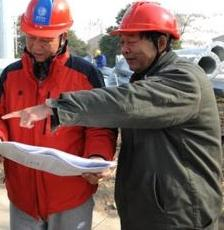hard-hat: (20, 0, 73, 39)
vest: (0, 44, 118, 224)
